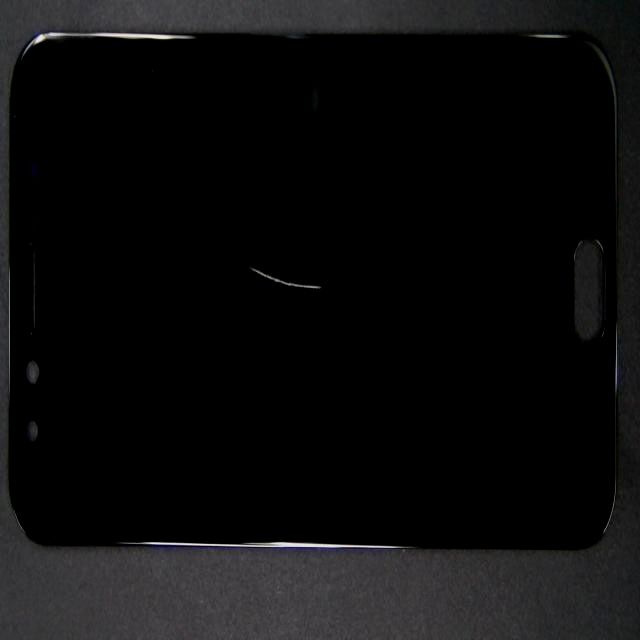scratch: (207, 159, 457, 418)
